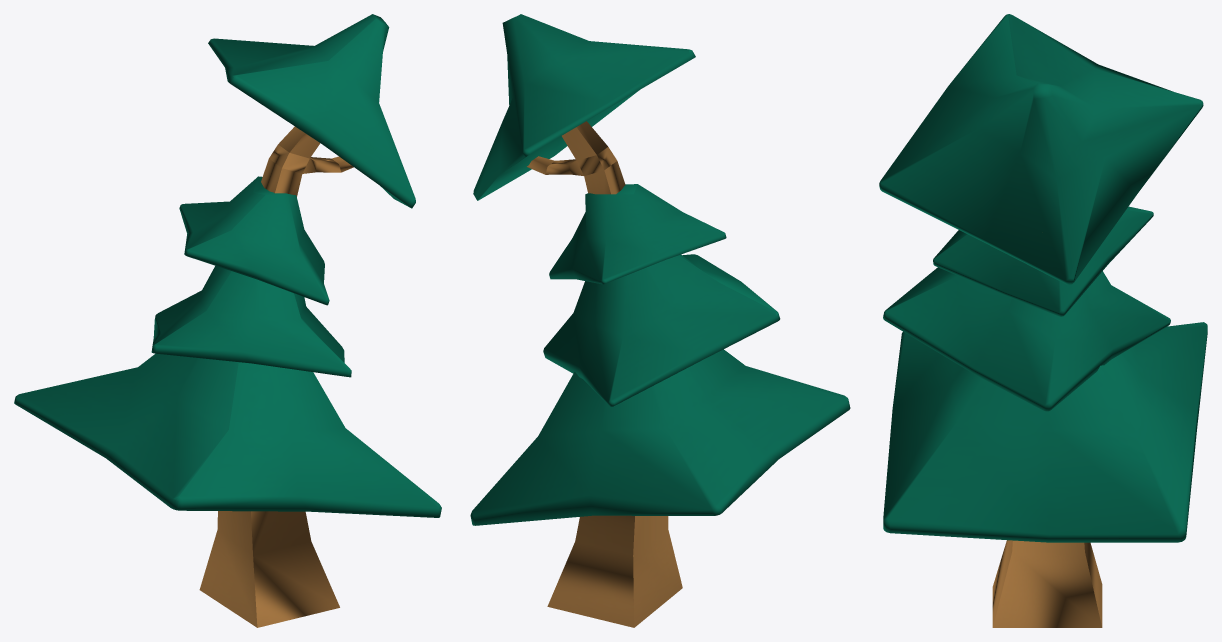
File: arvoreshire.fbx
3 renders of one model, left to right at view 1: azimuth 30°, elevation 25°; view 2: azimuth 150°, elevation 25°; view 3: azimuth 270°, elevation 25°, orthographic. The views are drawn at different scales.
Parts seen in each view (by area): view 1: Cube.007, Cube.008; view 2: Cube.007, Cube.008; view 3: Cube.007, Cube.008.
Boxes of the visible parts, x1,y1,x2,y2 form: Cube.007: (14,14,441,517); Cube.008: (199,126,353,627); Cube.007: (470,14,850,525); Cube.008: (527,121,682,627); Cube.007: (879,14,1207,542); Cube.008: (992,540,1102,627).
Size of the model in its own units: 837 by 1426 by 740.
Materials: 2 (2 with a texture image).
